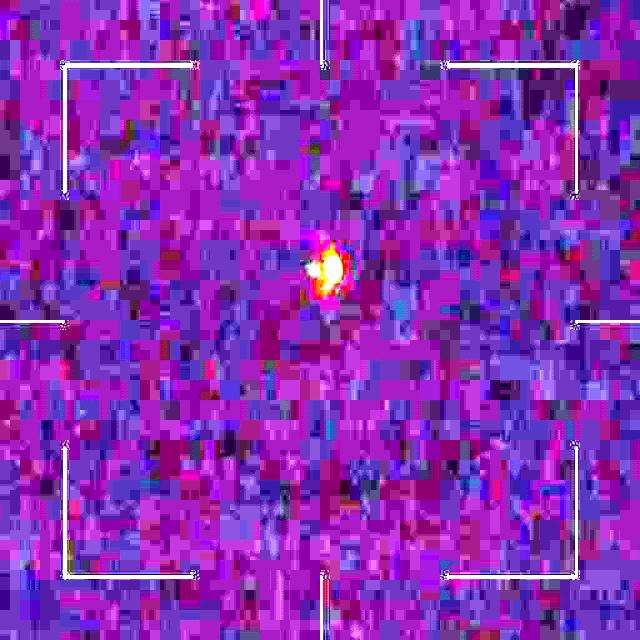bird: (310, 248, 344, 299)
